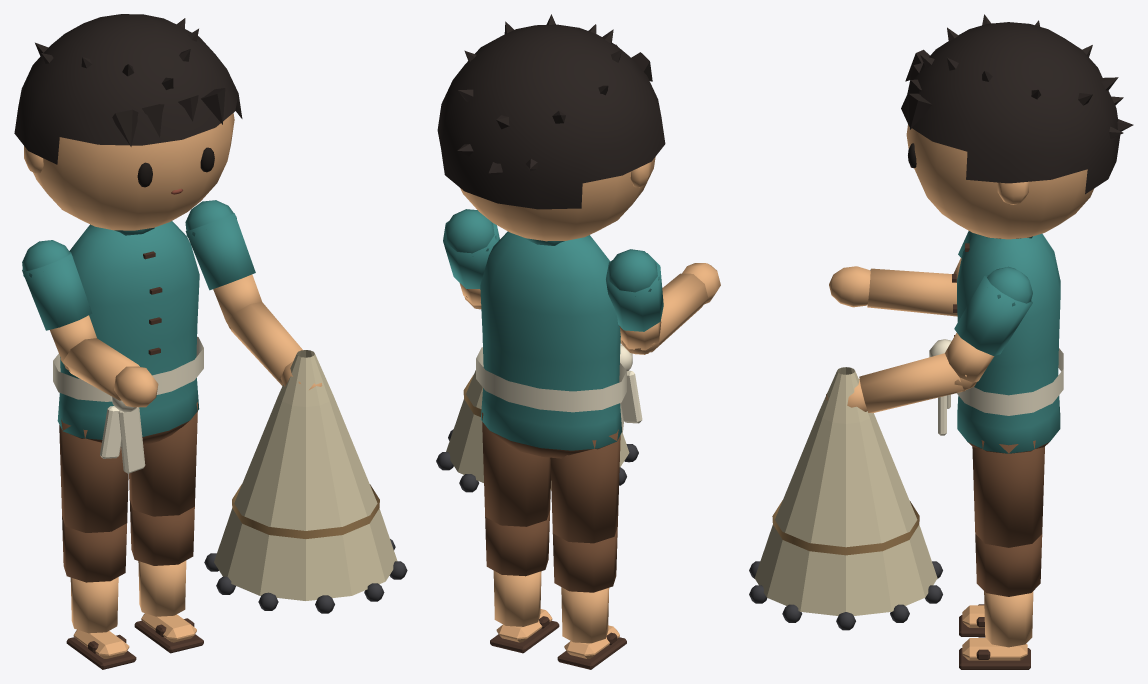
The model's file is era1_net_fisher.glb.
3 views of the same model, side by side, from view 1: azimuth 30°, elevation 25°; view 2: azimuth 150°, elevation 25°; view 3: azimuth 270°, elevation 25° (orthographic).
Visible parts, largest first — view 1: head, prop_cast_net, body, shin_L, shin_R, leg_R, arm_L, arm_R, leg_L, forearm_R, forearm_L; view 2: head, body, shin_L, shin_R, leg_R, leg_L, arm_R, prop_cast_net, arm_L, forearm_R; view 3: head, prop_cast_net, body, shin_L, leg_L, arm_L, forearm_R, forearm_L, shin_R.
Boxes of the visible parts, x1,y1,x2,y2 form: head: (14, 14, 242, 230); prop_cast_net: (204, 350, 407, 613); body: (53, 221, 203, 473); shin_L: (129, 499, 203, 653); shin_R: (62, 516, 136, 669); leg_R: (59, 419, 128, 532); arm_L: (185, 200, 261, 329); arm_R: (22, 240, 96, 371); leg_L: (129, 402, 197, 516); forearm_R: (60, 338, 158, 407); forearm_L: (224, 302, 322, 389); head: (437, 14, 665, 241); body: (476, 231, 642, 458); shin_L: (485, 511, 559, 653); shin_R: (552, 526, 626, 669); leg_R: (550, 429, 620, 543); leg_L: (482, 412, 550, 526); arm_R: (606, 249, 663, 354); prop_cast_net: (436, 370, 638, 492); arm_L: (443, 209, 499, 308); forearm_R: (621, 263, 720, 353); head: (901, 14, 1133, 239); prop_cast_net: (749, 367, 942, 630); body: (929, 233, 1063, 453); shin_L: (959, 534, 1042, 669); leg_L: (972, 440, 1044, 547); arm_L: (945, 266, 1032, 392); forearm_R: (829, 266, 957, 316); forearm_L: (826, 353, 978, 413); shin_R: (959, 604, 985, 636).
Bounding box in the file's own units: 0.7246 × 1.48 × 0.8412.
